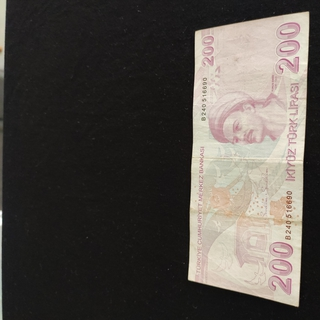200TLBack: (187, 11, 310, 307)
